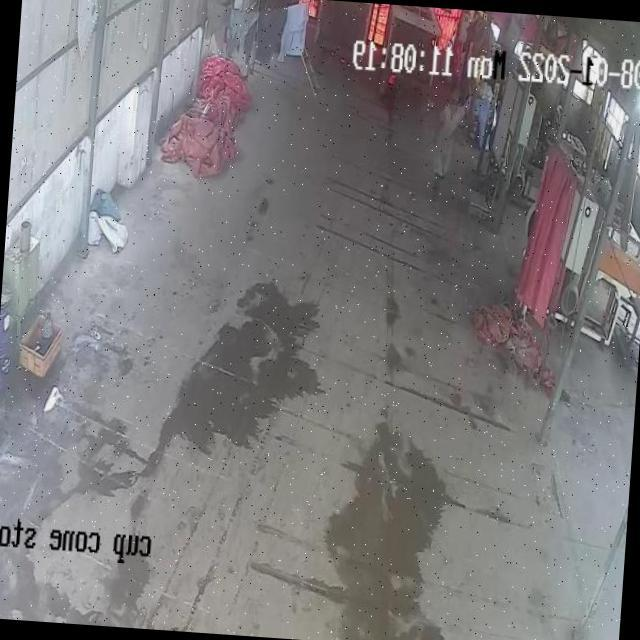person: (428, 82, 461, 202)
